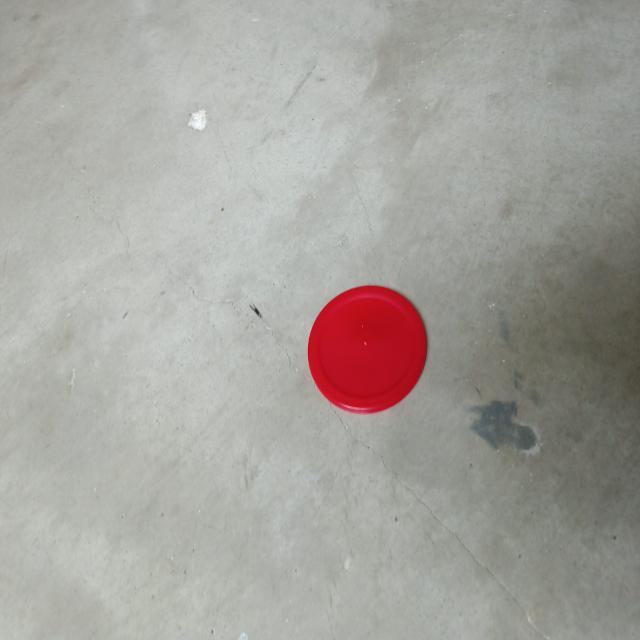chip: (304, 282, 424, 414)
